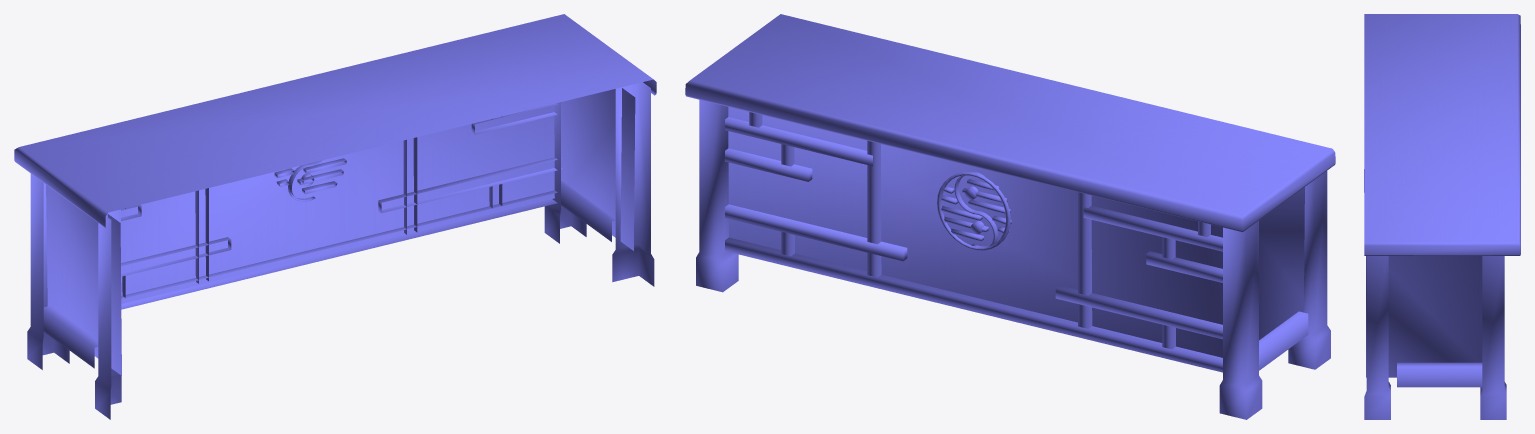
Rendered from SideTable.fbx.
The picture shows the model from 3 angles, left to right: view 1: azimuth 30°, elevation 25°; view 2: azimuth 150°, elevation 25°; view 3: azimuth 270°, elevation 25°; orthographic projection. The views are drawn at different scales.
Visible parts, largest first — view 1: SideTable; view 2: SideTable; view 3: SideTable.
Part boxes in pixels (x1,y1,x2,y2): SideTable: (14,14,656,419); SideTable: (685,14,1335,419); SideTable: (1364,14,1520,419).
Bounding box in the file's own units: 279 × 80.21 × 100.
